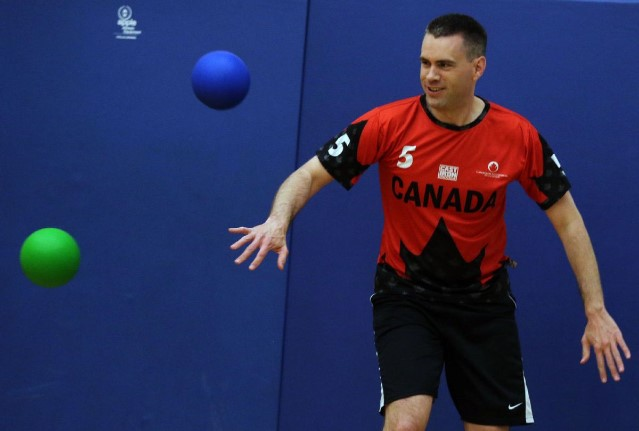blue ball: (192, 49, 251, 110)
